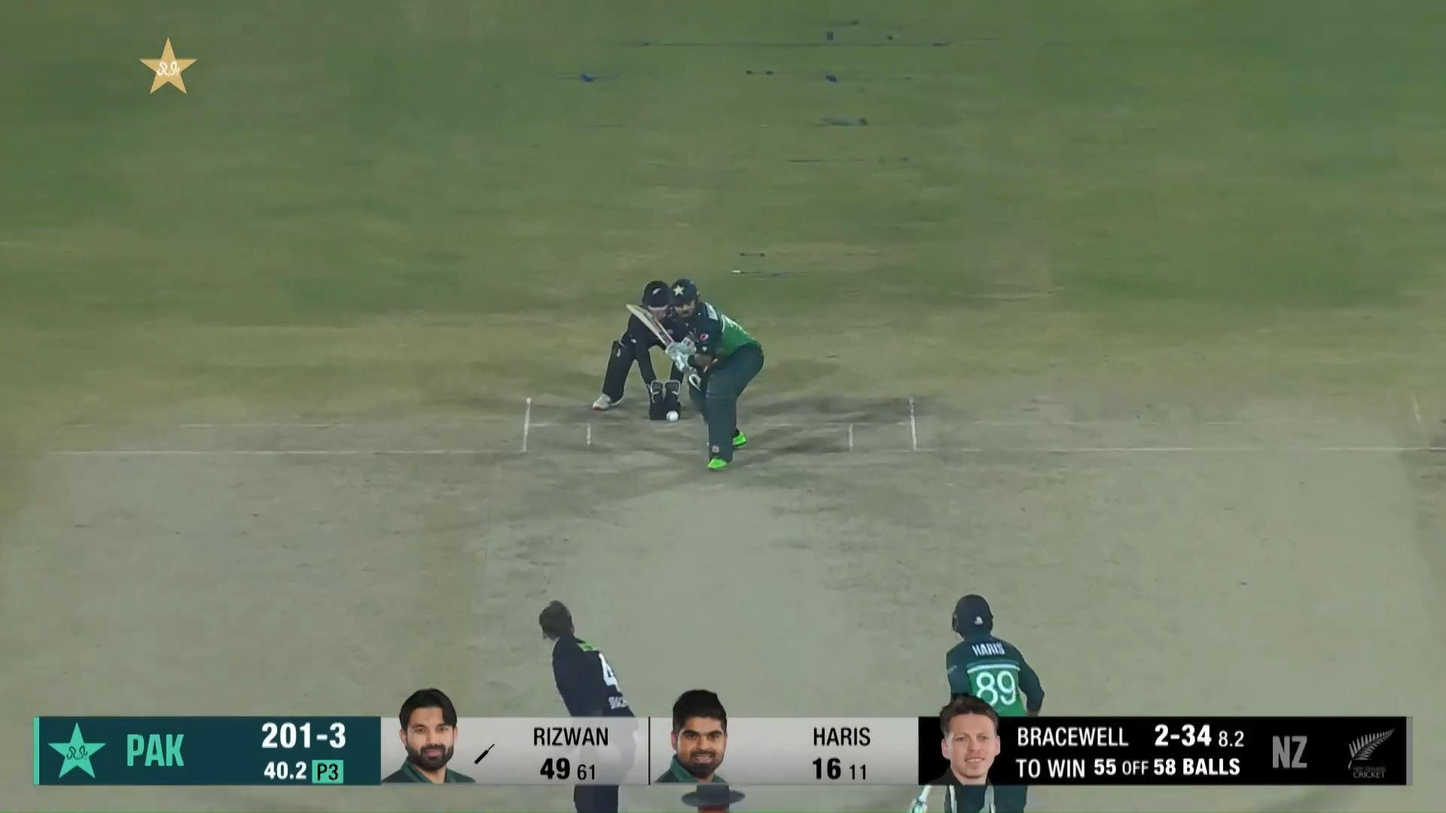BM 1: (626, 279, 765, 471)
BO: (537, 599, 642, 813)
